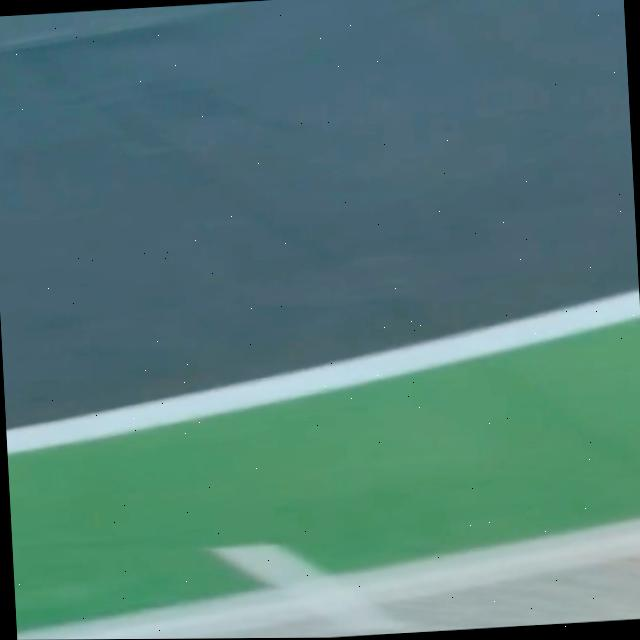right: (5, 289, 640, 453)
